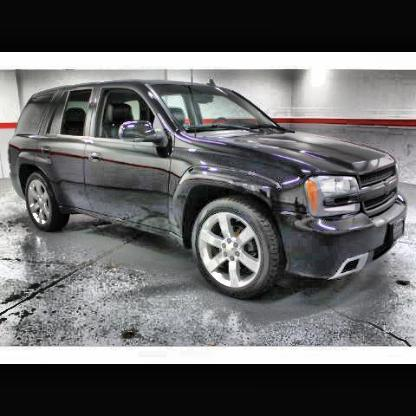Chevrolet TrailBlazer SS 2009: (8, 72, 410, 307)
